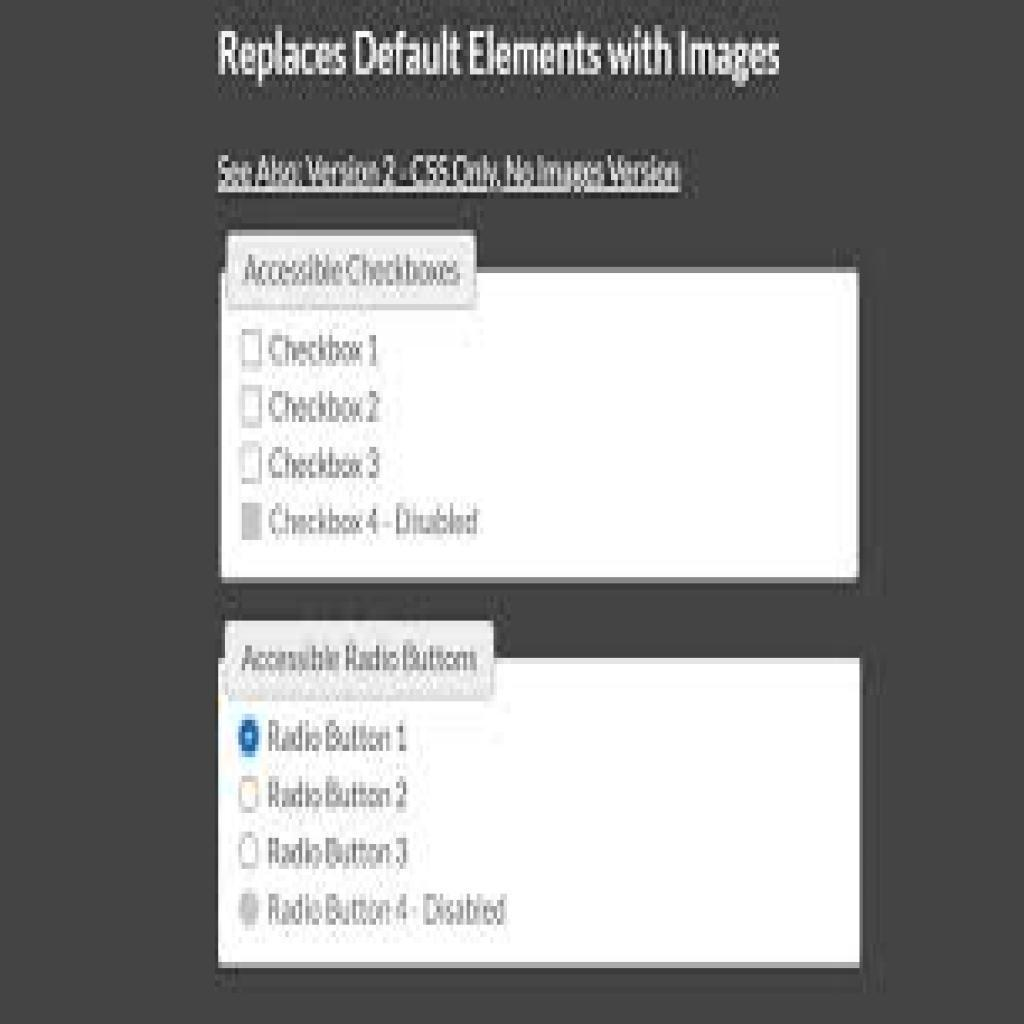checkbox: (238, 441, 267, 489), (240, 327, 267, 376), (238, 500, 268, 544), (239, 384, 266, 431)
radio: (237, 828, 263, 876), (238, 883, 261, 934), (237, 715, 260, 761), (236, 776, 261, 815)
